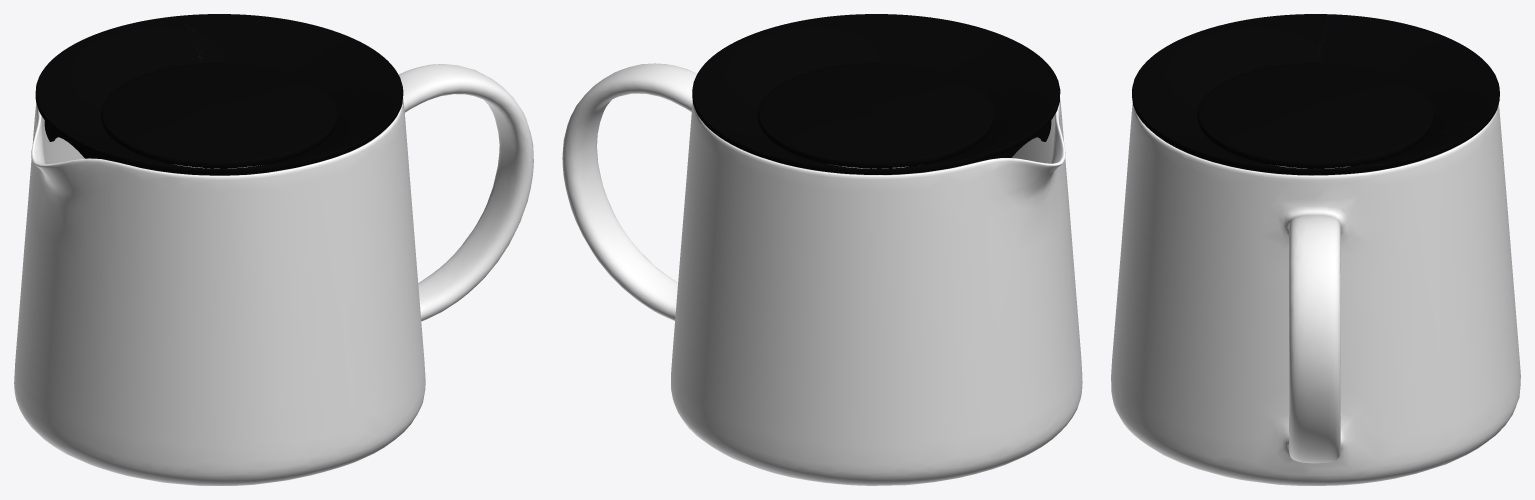
The model's file is riklig_czajniczek_90150071.glb.
3 views of the same model, side by side, from view 1: azimuth 30°, elevation 25°; view 2: azimuth 150°, elevation 25°; view 3: azimuth 270°, elevation 25° (orthographic).
Visible parts, largest first — view 1: riklig_czajniczek_90150071; view 2: riklig_czajniczek_90150071; view 3: riklig_czajniczek_90150071.
Boxes of the visible parts, <box> form: riklig_czajniczek_90150071: <box>14,14,533,485</box>; riklig_czajniczek_90150071: <box>562,14,1082,485</box>; riklig_czajniczek_90150071: <box>1111,14,1520,485</box>.
Size of the model in its own units: 0.2061 by 0.127 by 0.1487.
Materials: 2 (2 with a texture image).
